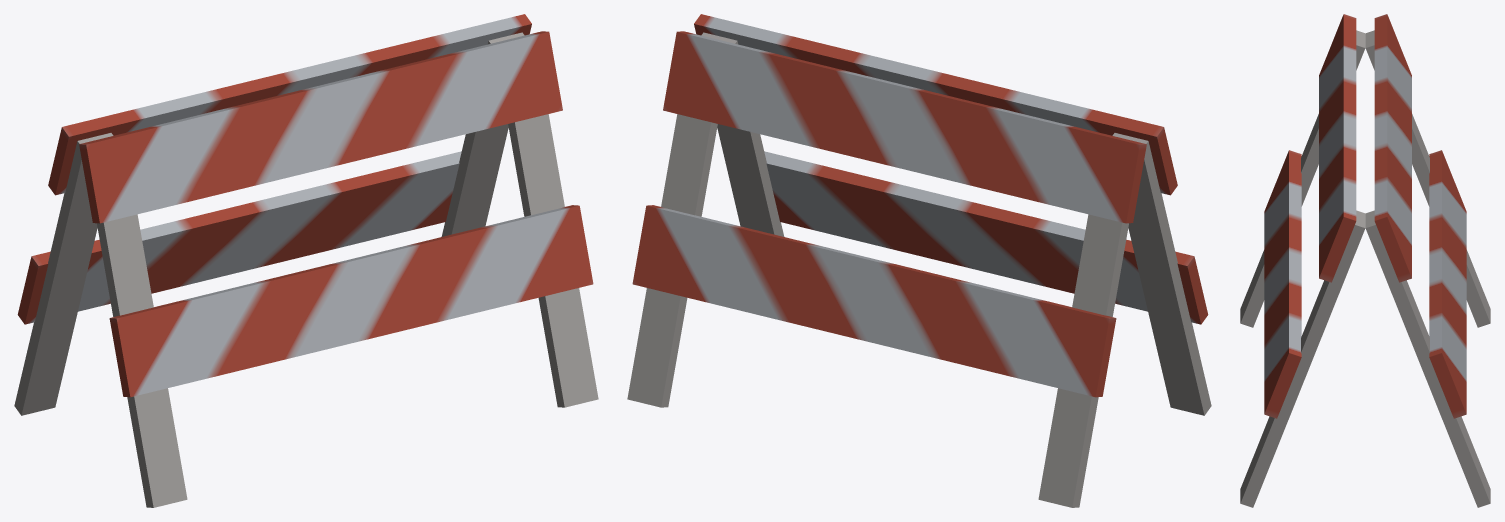
Rendered from SM_Prop_Roadblock_02.fbx.
3 views of the same model, side by side, from view 1: azimuth 30°, elevation 25°; view 2: azimuth 150°, elevation 25°; view 3: azimuth 270°, elevation 25° (orthographic). The views are drawn at different scales.
Parts seen in each view (by area): view 1: SM_Prop_Roadblock_02; view 2: SM_Prop_Roadblock_02; view 3: SM_Prop_Roadblock_02.
Part boxes in pixels (x1,y1,x2,y2): SM_Prop_Roadblock_02: [14, 14, 598, 507]; SM_Prop_Roadblock_02: [627, 14, 1211, 507]; SM_Prop_Roadblock_02: [1240, 14, 1490, 507].
Bounding box in the file's own units: 146 × 98.99 × 76.17.
